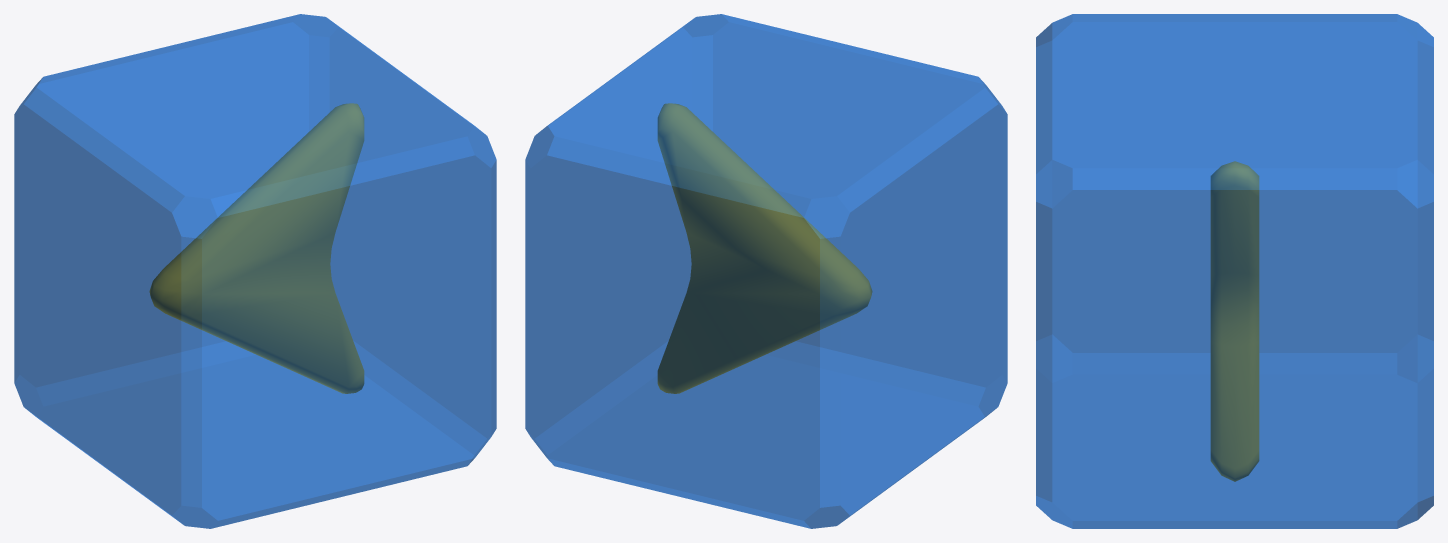
3 renders of one model, left to right at view 1: azimuth 30°, elevation 25°; view 2: azimuth 150°, elevation 25°; view 3: azimuth 270°, elevation 25°, orthographic. The views are drawn at different scales.
Visible parts, largest first — view 1: FK-11-1, FK-11-2; view 2: FK-11-1, FK-11-2; view 3: FK-11-1, FK-11-2.
Boxes of the visible parts, <box> form: FK-11-1: <box>14,14,496,528</box>; FK-11-2: <box>149,103,364,393</box>; FK-11-1: <box>525,14,1007,528</box>; FK-11-2: <box>657,103,872,393</box>; FK-11-1: <box>1036,14,1433,528</box>; FK-11-2: <box>1210,161,1259,481</box>.
Bounding box in the file's own units: 10 × 10 × 10.
